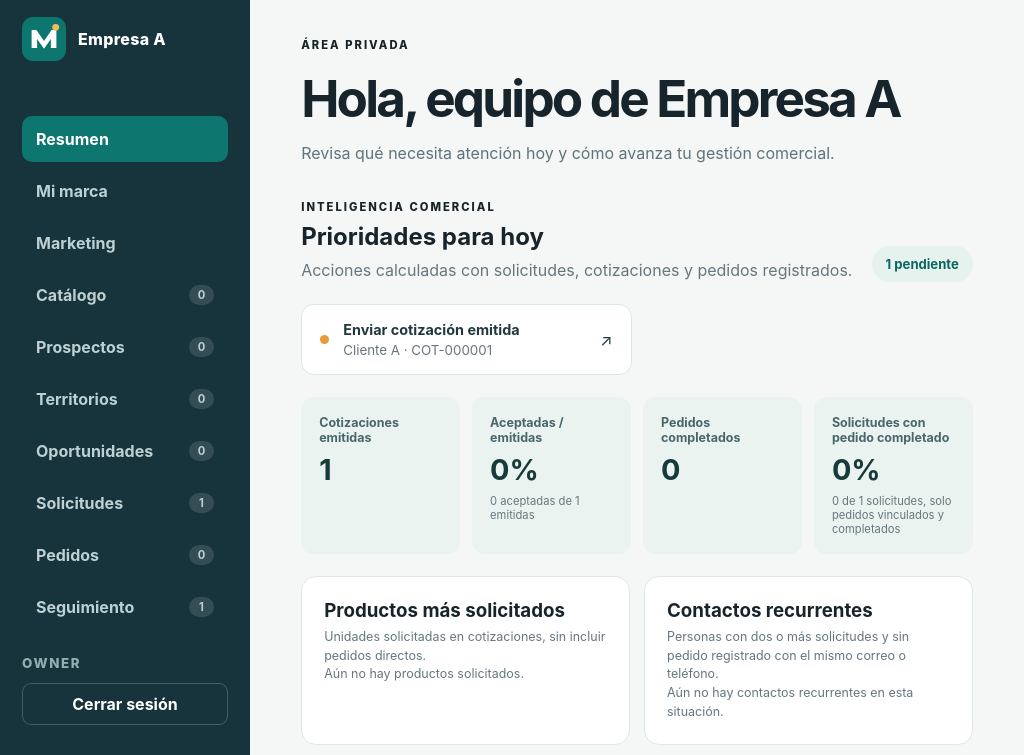
Test: multi-tenant application routes › tracks an issued quote without sending it automatically
The image size is (1024, 755).
Click the button "Seguimiento 1".
click(125, 607)  # box [22,584,228,630]
(page scrolled)
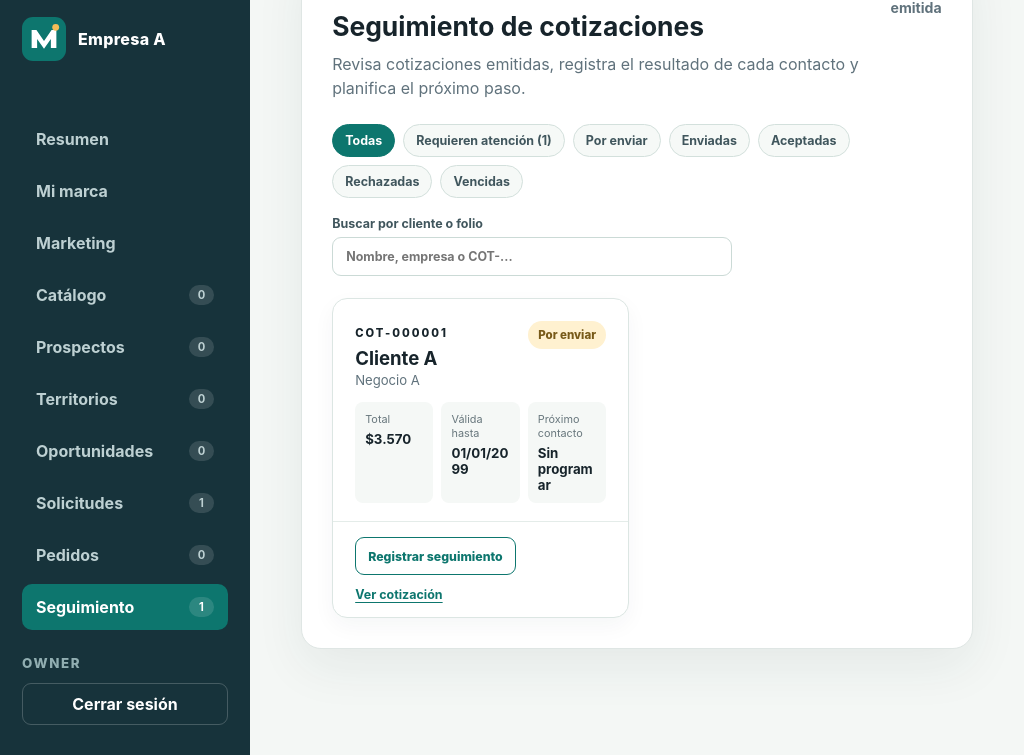
Check: the text "COT-000001" is shown, box [355,326,448,340]
Check: the heading "Seguimiento de cotizaciones" is shown, box [332,10,704,42]
Check: the text "Por enviar" is shown, box [528,321,606,349]
Click the button "Registrar seguimiento".
click(435, 556)  # box [355,537,516,575]
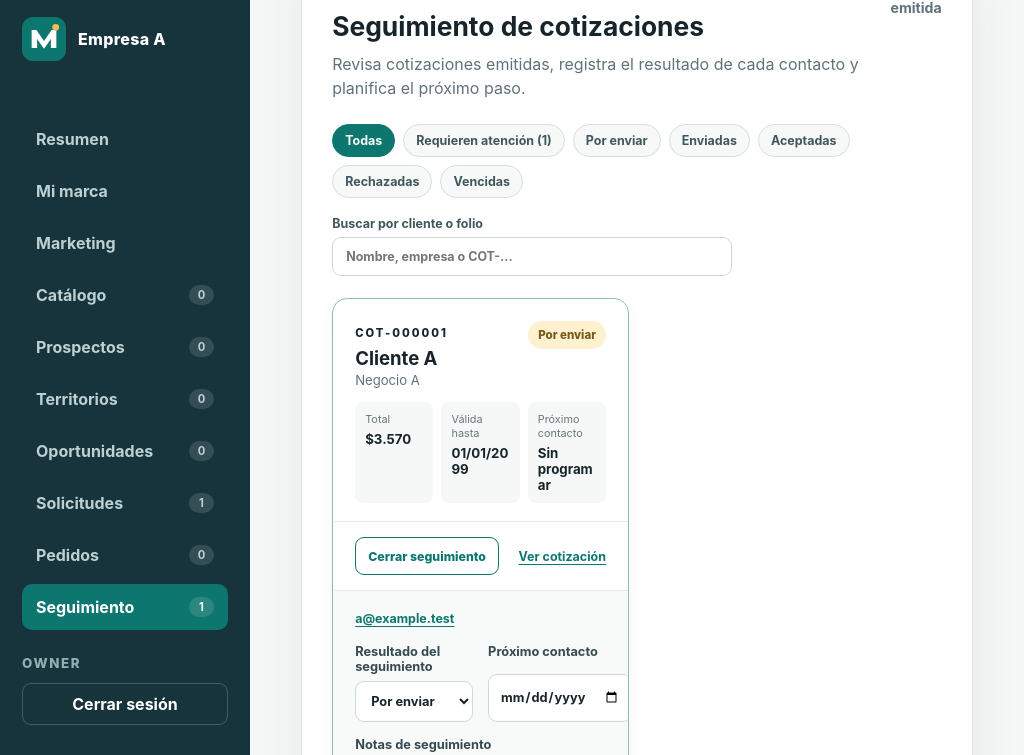
Select "Enviada por mi cuenta" in the dropdown labelled "Resultado del seguimiento" at (414, 702), box [355,681,473,722]
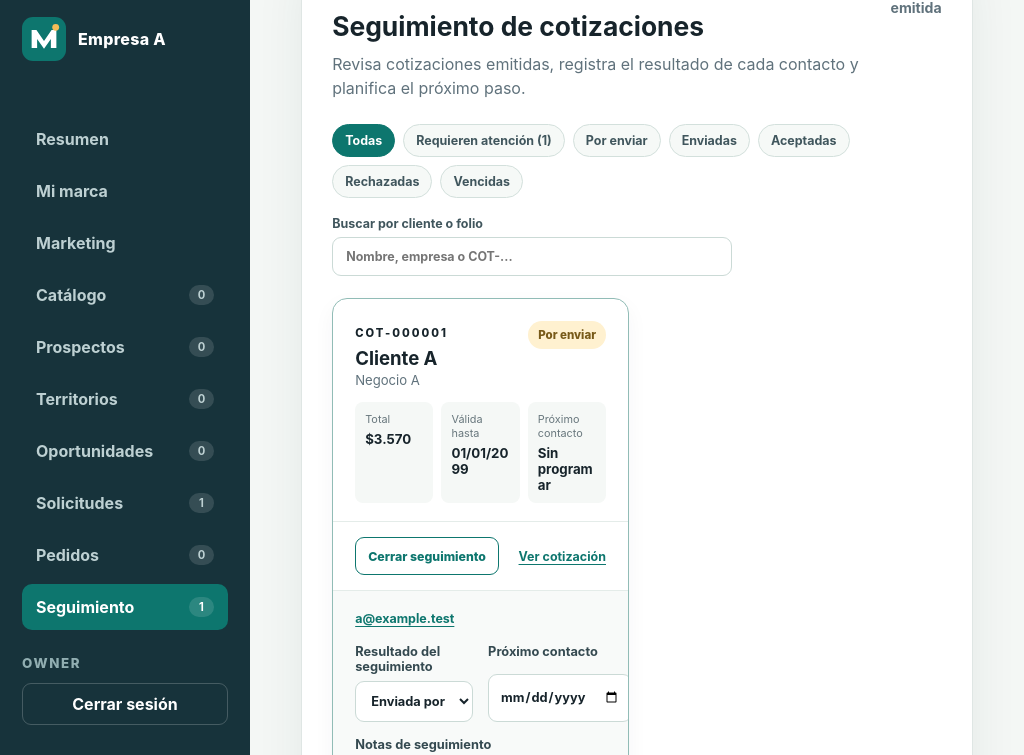
Type "2099-01-02" into the date field labelled "Próximo contacto".
click(560, 698); type("2099-01-02")  # box [488,674,632,722]
(page scrolled)
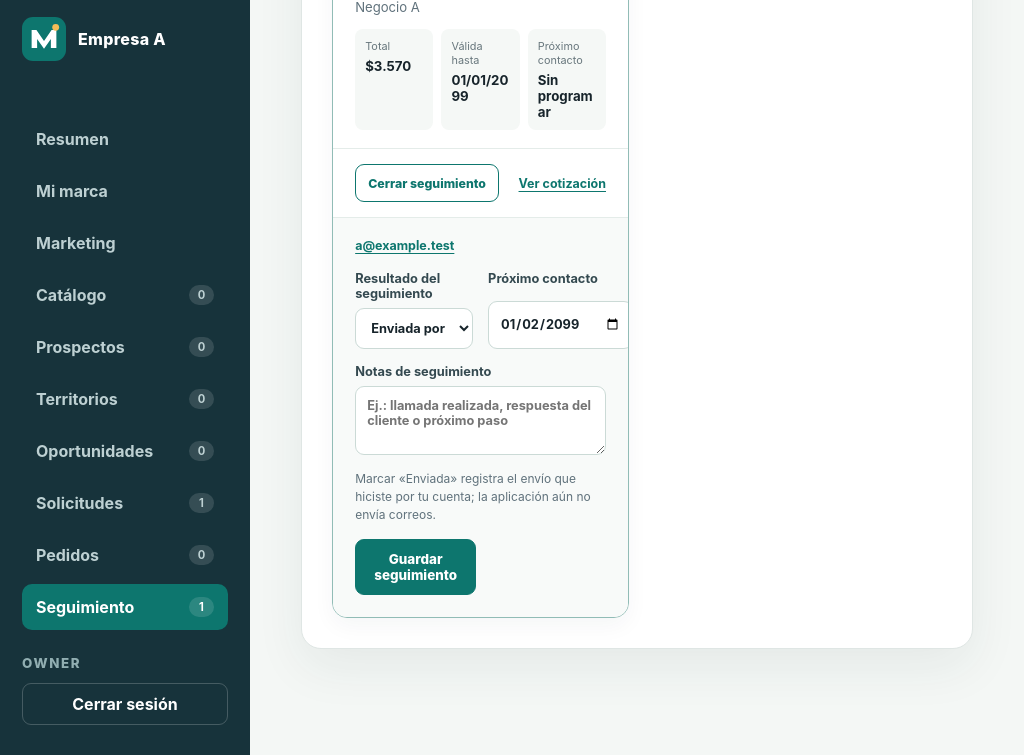
Type "Enviada por WhatsApp" into the text box labelled "Notas de seguimiento".
click(481, 420); type("Enviada por WhatsApp")  # box [355,386,606,455]
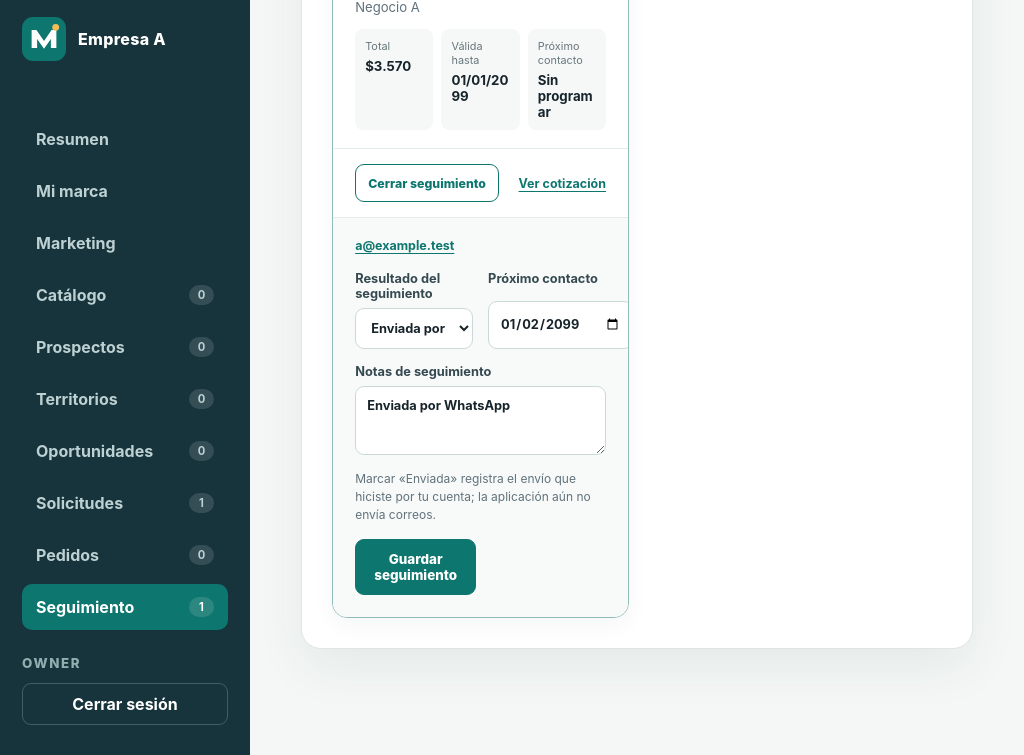
Click the button "Guardar seguimiento".
click(416, 567)  # box [355,539,476,595]
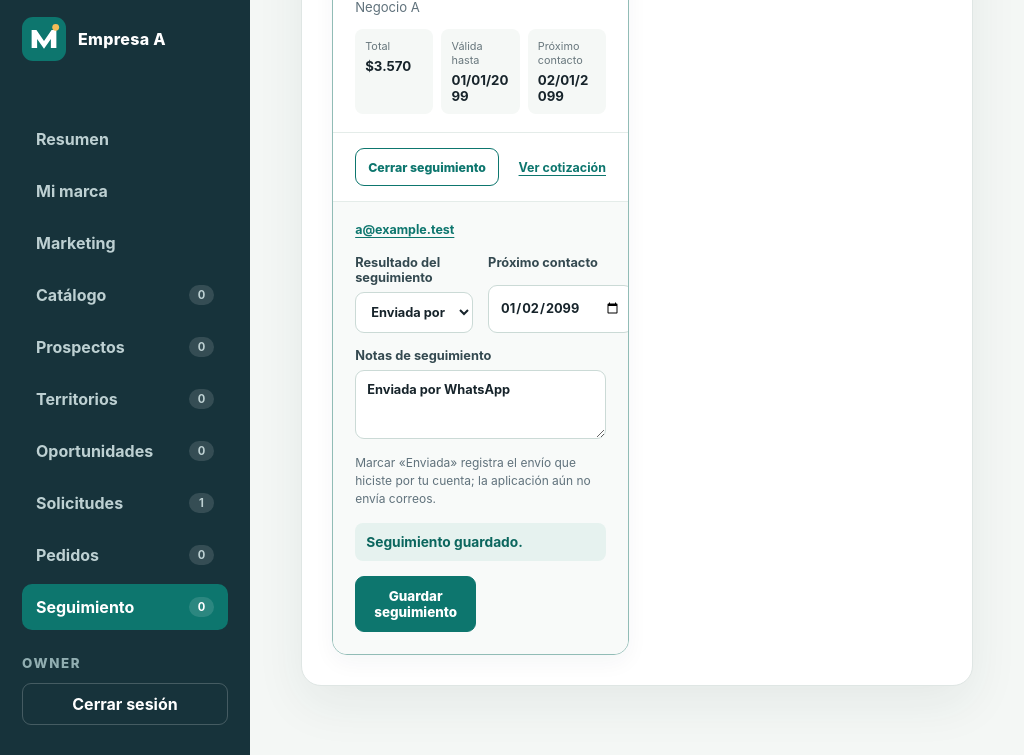
Check: the text box labelled "Notas de seguimiento" holds "Enviada por WhatsApp", box [355,370,606,439]
Check: the text "Seguimiento guardado." is shown, box [355,523,606,561]
